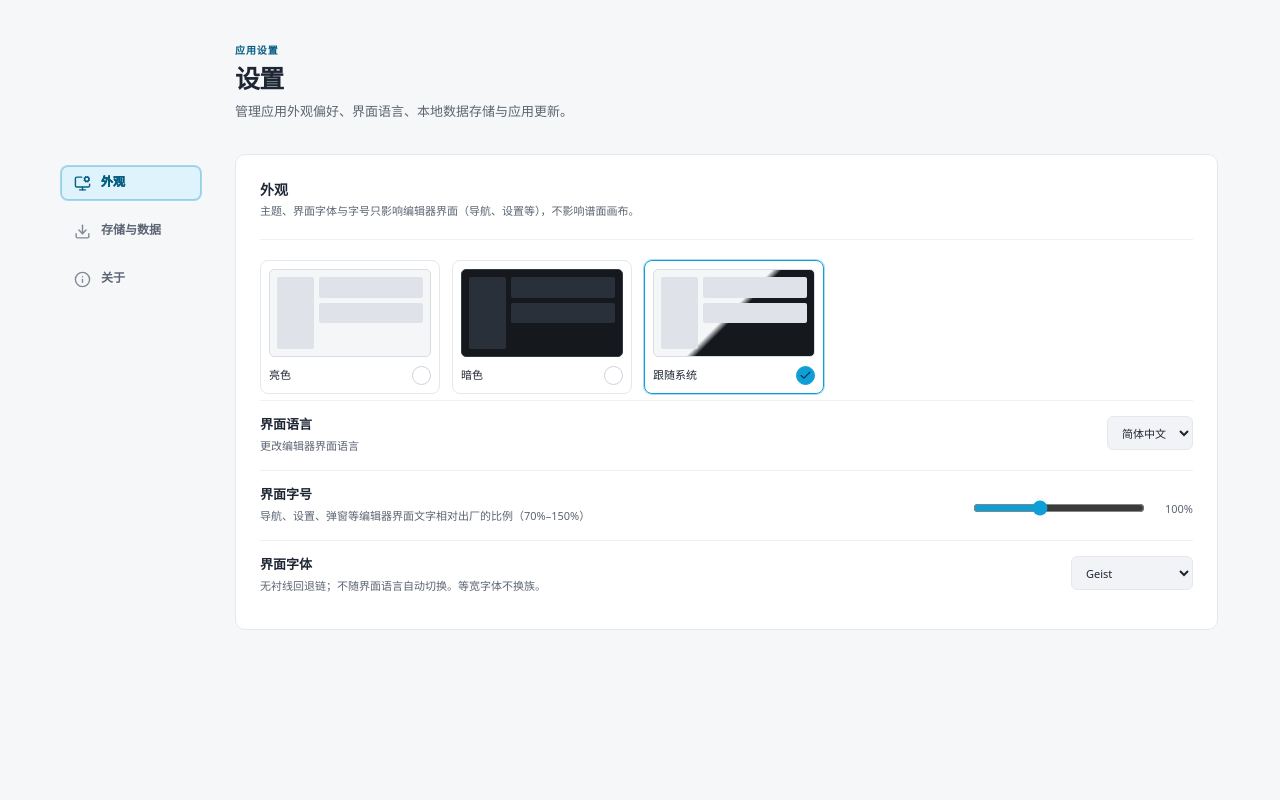
Test: 票 14 + 18 + 19 + 48 · 设置页社区素材缓存与数据目录块 › 票 48 · 清除失败：不出 toast、不重拉、占用保持原值并给出错误行
Click the button "存储与数据": point(131, 230) [61,214,201,248]
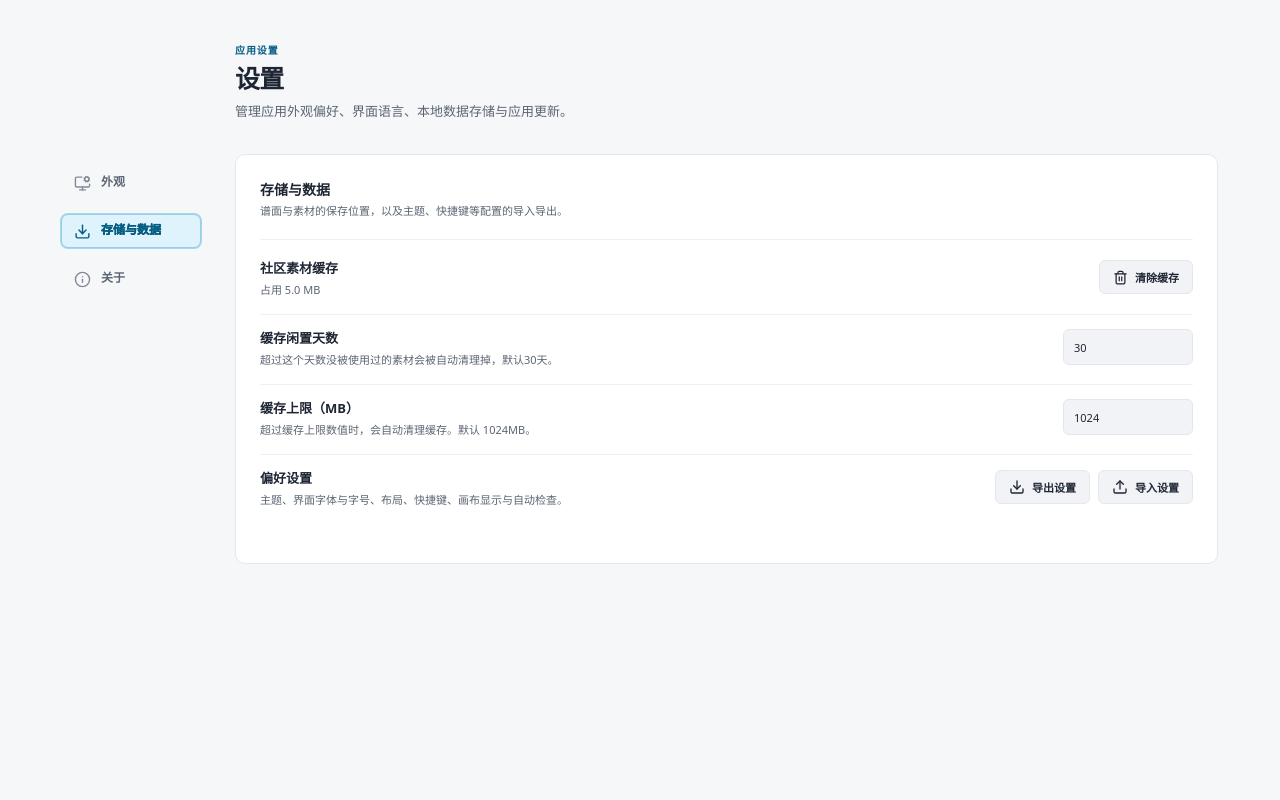
Now the text "占用 5.0 MB" is shown, box [260,282,320,296]
Click the button "清除缓存": point(1146, 277) [1099,260,1193,294]
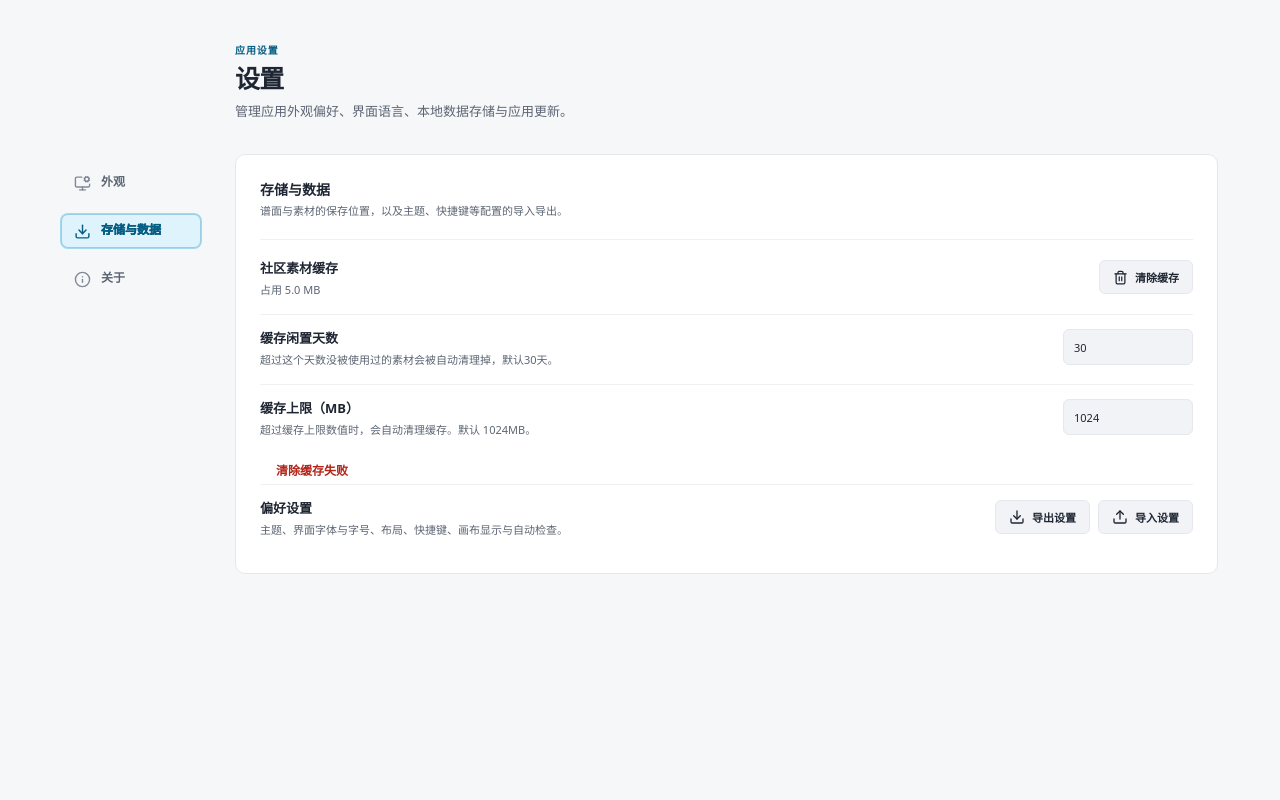
Now the text "占用 5.0 MB" is shown, box [260,282,320,296]
Now the text "清除缓存失败" is shown, box [276,462,348,479]
